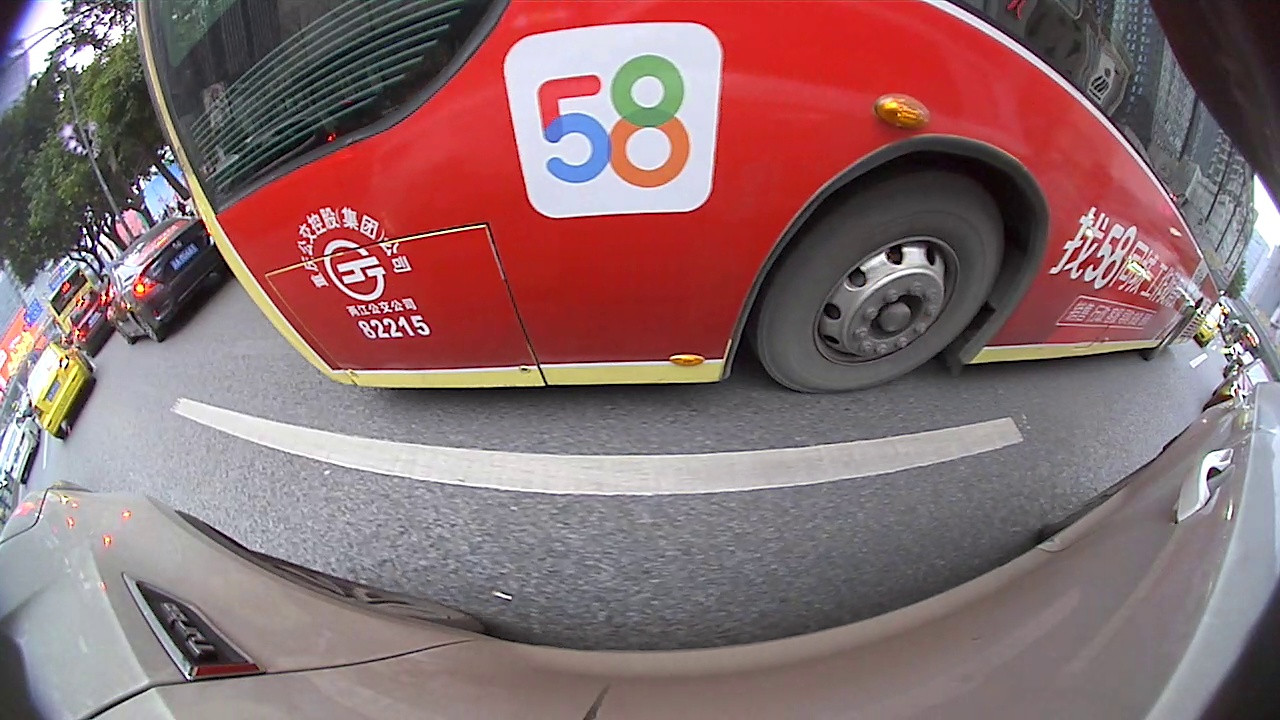car: (450, 48, 701, 143), (1050, 227, 1169, 352), (141, 145, 239, 235), (971, 164, 1078, 244), (1182, 356, 1248, 441)
front: (468, 110, 507, 143)
rear: (633, 105, 674, 140)
rider: (252, 103, 314, 186)
